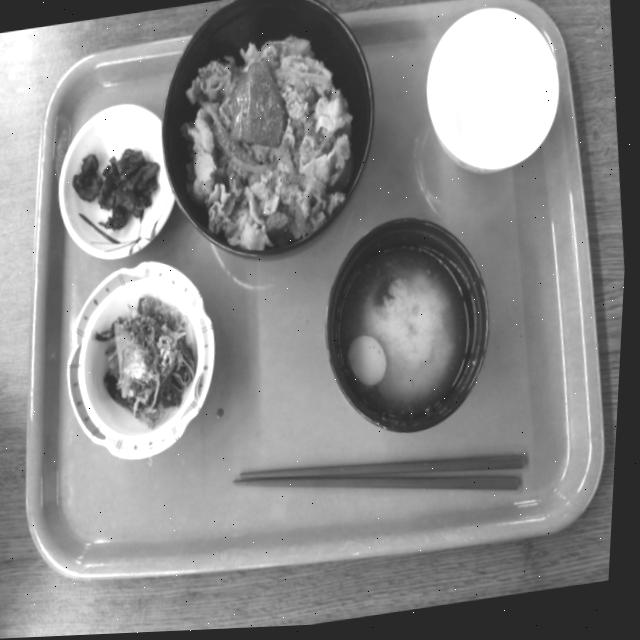汤锅炖物: (138, 0, 340, 202)
